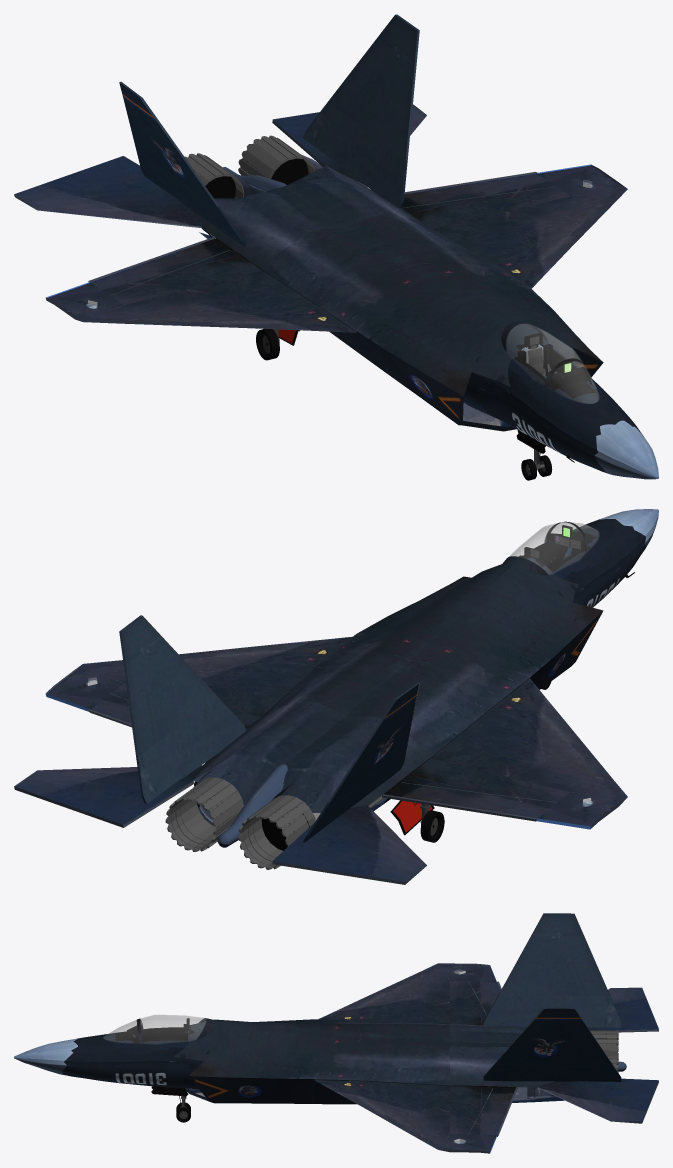
File: shenyang_fc-31_gyrfalcon.glb
3 views of the same model, one above another, from view 1: azimuth 30°, elevation 25°; view 2: azimuth 150°, elevation 25°; view 3: azimuth 270°, elevation 25° (orthographic). The views are drawn at different scales.
Visible parts, largest first — view 1: J31_3; view 2: J31_3; view 3: J31_3.
Boxes of the visible parts, left/top/right/bottom form: J31_3: left=14, top=14, right=658, bottom=480; J31_3: left=14, top=509, right=658, bottom=884; J31_3: left=14, top=913, right=658, bottom=1153.
Bounding box in the file's own units: 2.03 × 0.8005 × 2.96.
Materials: 18 (9 with a texture image).
